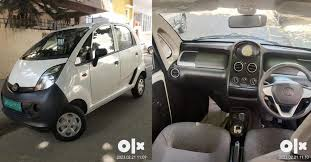Nano: (4, 22, 146, 142)
